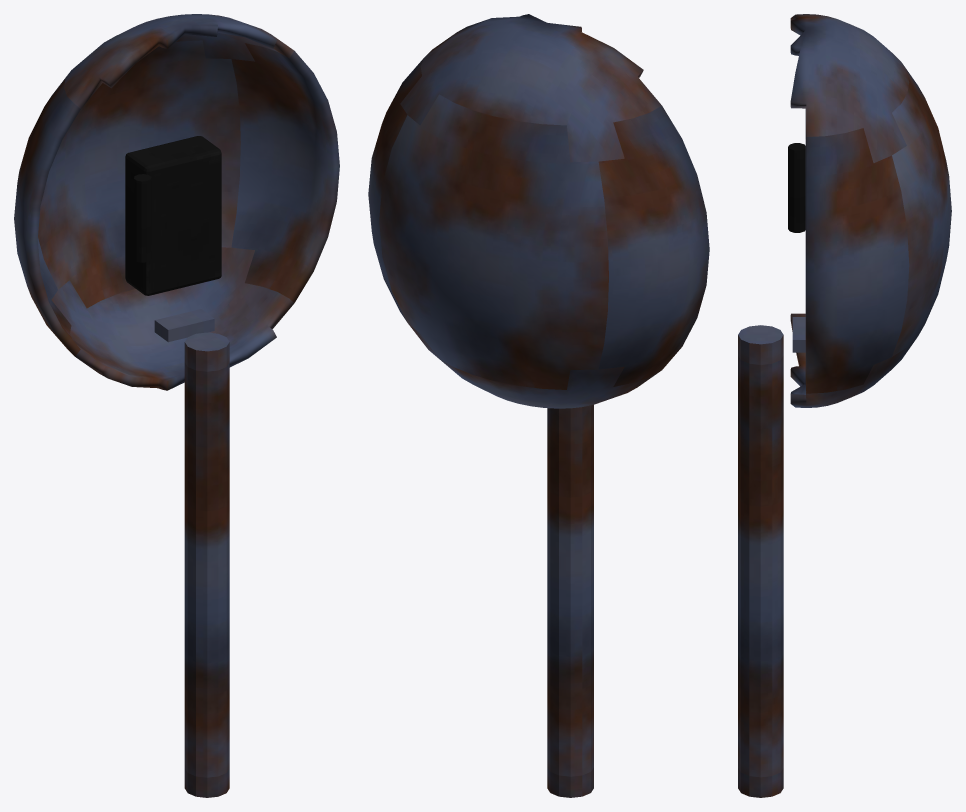
Rendered from ST02_PublicTelephone.glb.
The picture shows the model from 3 angles, left to right: view 1: azimuth 30°, elevation 25°; view 2: azimuth 150°, elevation 25°; view 3: azimuth 270°, elevation 25°; orthographic projection. The views are drawn at different scales.
Visible parts, largest first — view 1: ST02_PublicTelephone; view 2: ST02_PublicTelephone; view 3: ST02_PublicTelephone.
Part boxes in pixels (x1,y1,x2,y2): ST02_PublicTelephone: (14, 14, 339, 797); ST02_PublicTelephone: (368, 14, 709, 797); ST02_PublicTelephone: (738, 14, 951, 797).
Size of the model in its own units: 0.7826 by 1.8 by 0.4598.
Materials: 2 (2 with a texture image).
